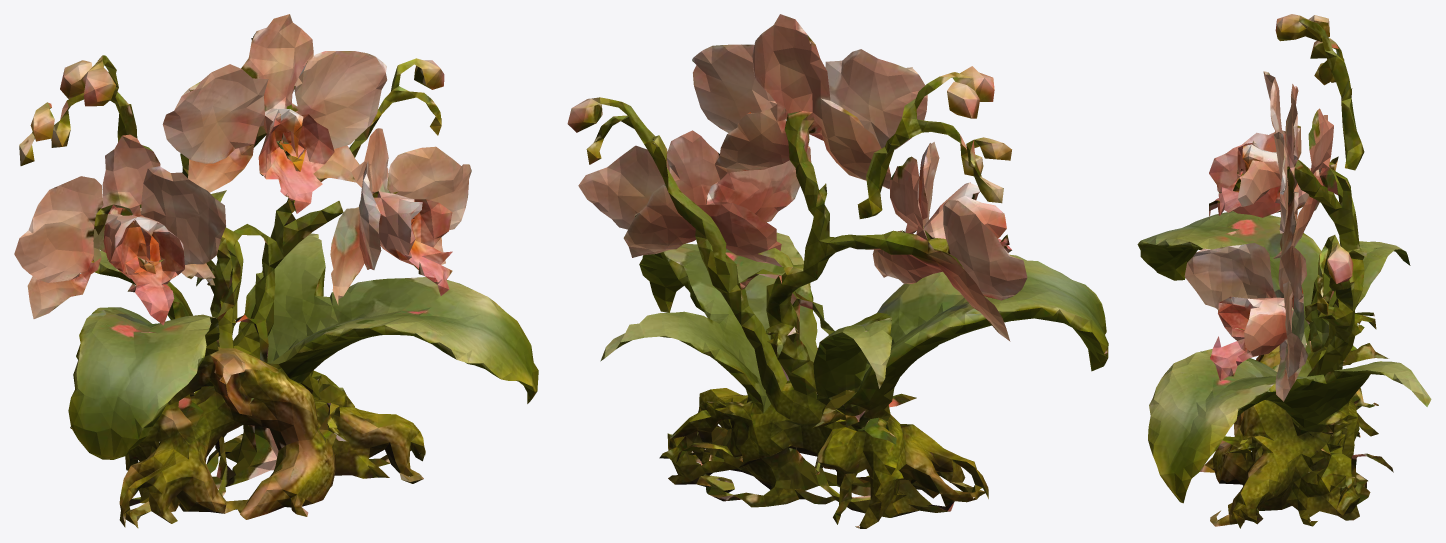
The model's file is fairy_giant_orchid_1117.glb.
3 renders of one model, left to right at view 1: azimuth 30°, elevation 25°; view 2: azimuth 150°, elevation 25°; view 3: azimuth 270°, elevation 25°, orthographic. The views are drawn at different scales.
Parts seen in each view (by area): view 1: world; view 2: world; view 3: world.
Boxes of the visible parts, bbox=[...] form: world: bbox=[14, 14, 538, 528]; world: bbox=[567, 14, 1108, 528]; world: bbox=[1137, 14, 1431, 528].
Bounding box in the file's own units: 1.06 × 1 × 0.6605.
Materials: 1 (1 with a texture image).
